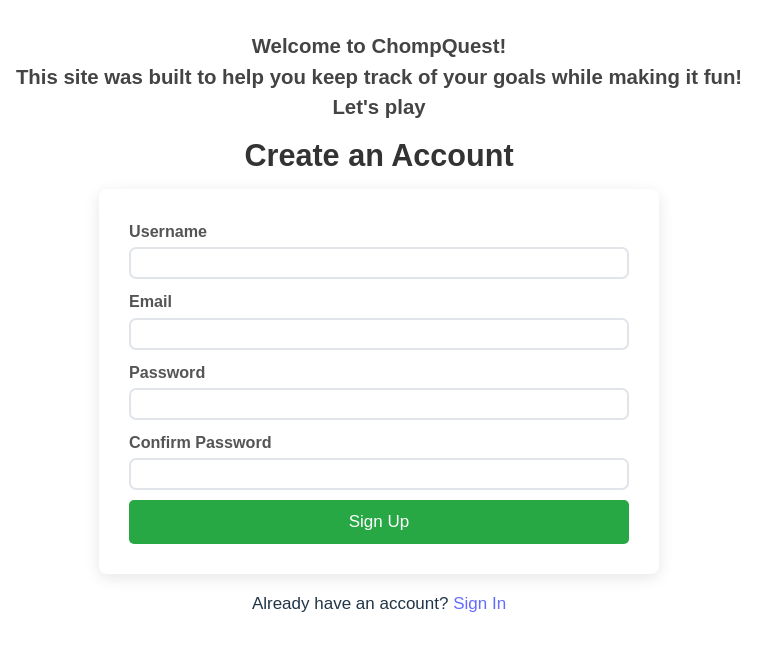
SignUp Component › shows error when passwords do not match
This screenshot has width=758, height=651.
Type "testuser" into the field labelled "Username" at (379, 263), box [129,247,629,279]
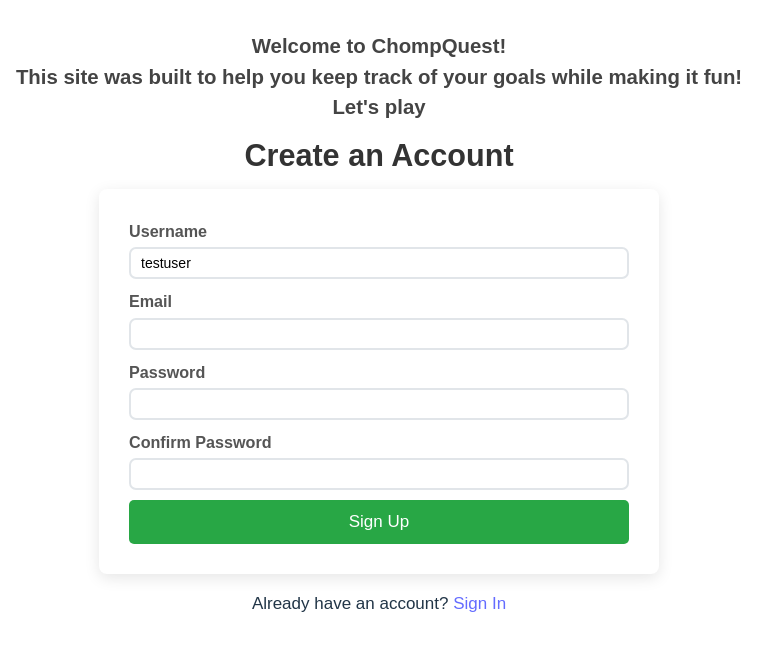
Type "test@example.com" into the field labelled "Email" at (379, 334), box [129,318,629,350]
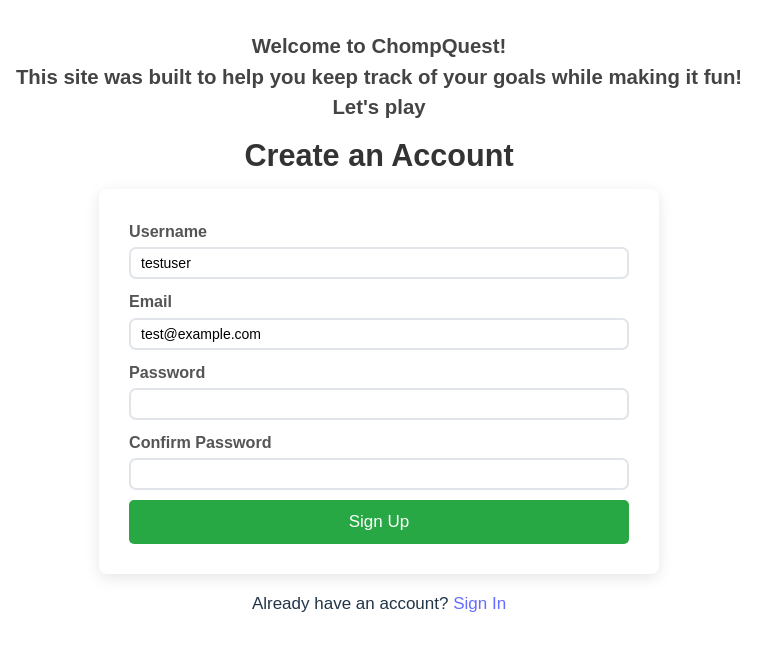
Type "password123" into the password field labelled "Password" at (379, 404), box [129,388,629,420]
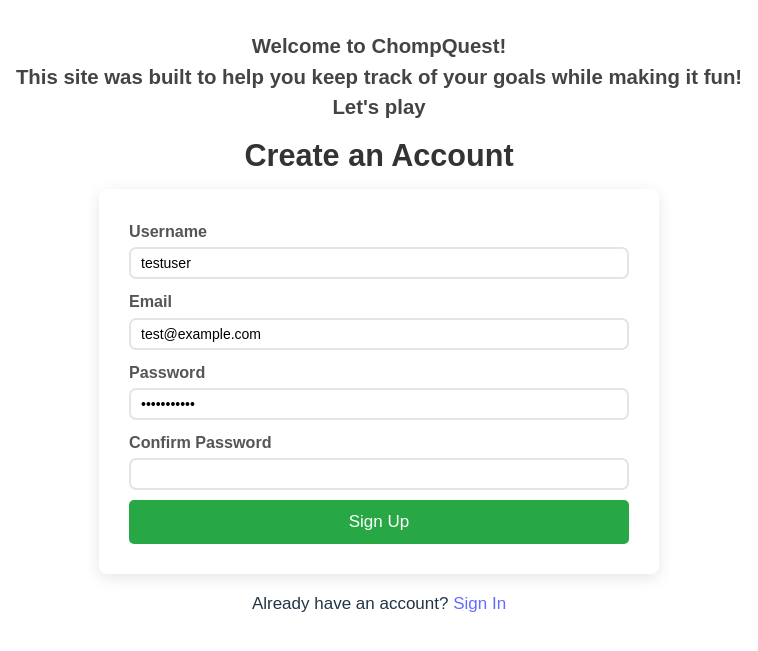
Type "password456" into the password field labelled "Confirm Password" at (379, 474), box [129,458,629,490]
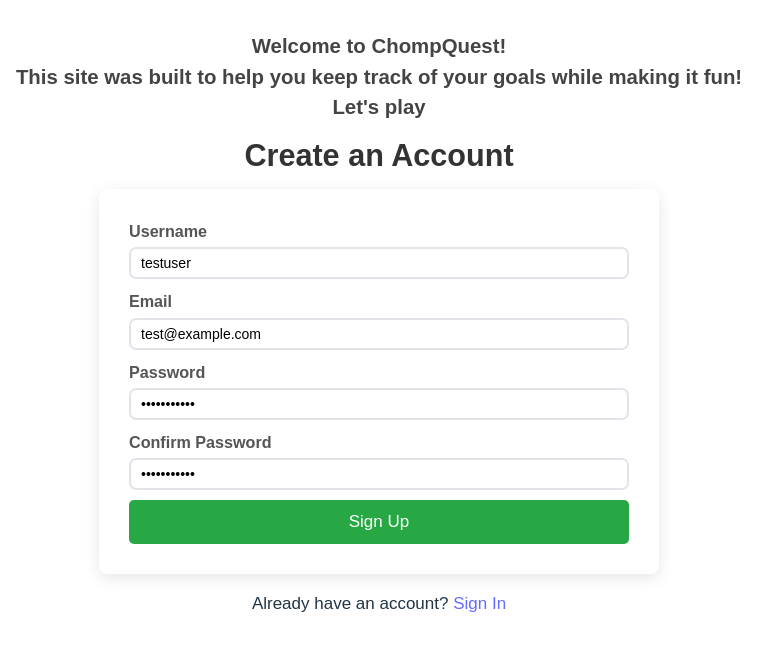
Click the button "Sign Up" at (379, 522), box [129,500,629,544]
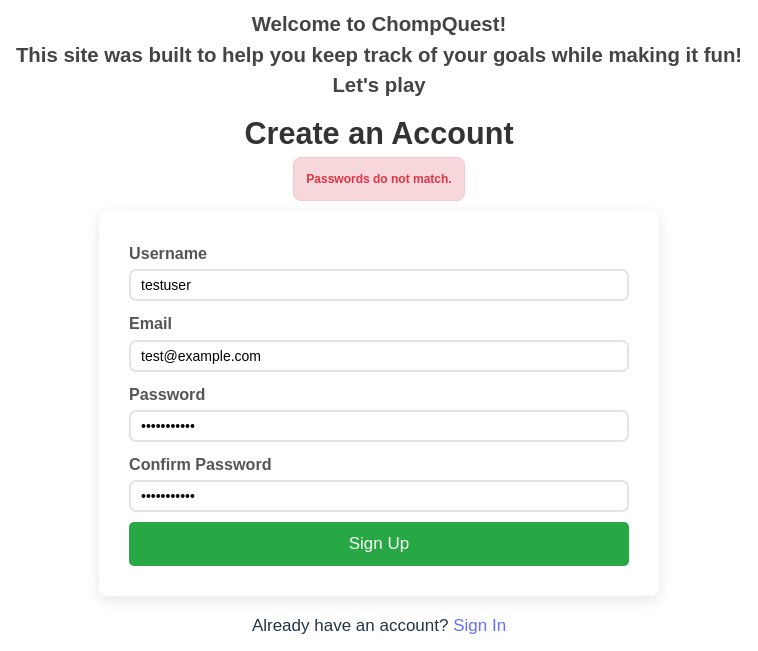
Check: the text "Passwords do not match." is shown, box [293,157,465,201]
